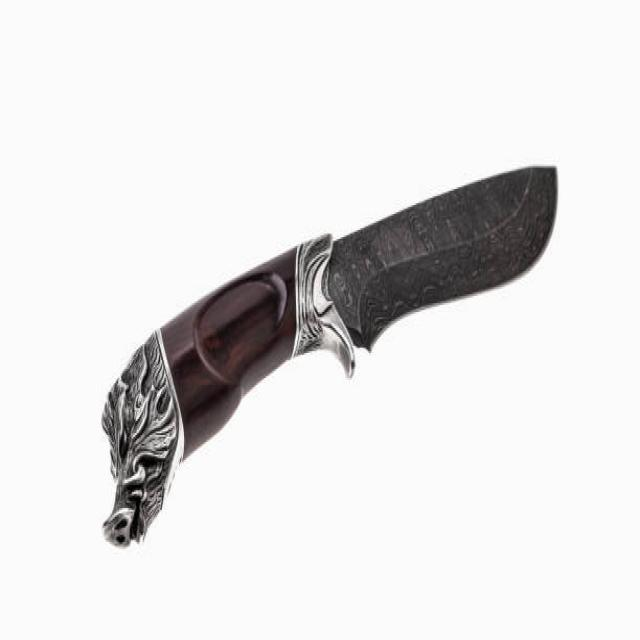knife: (102, 158, 561, 554)
